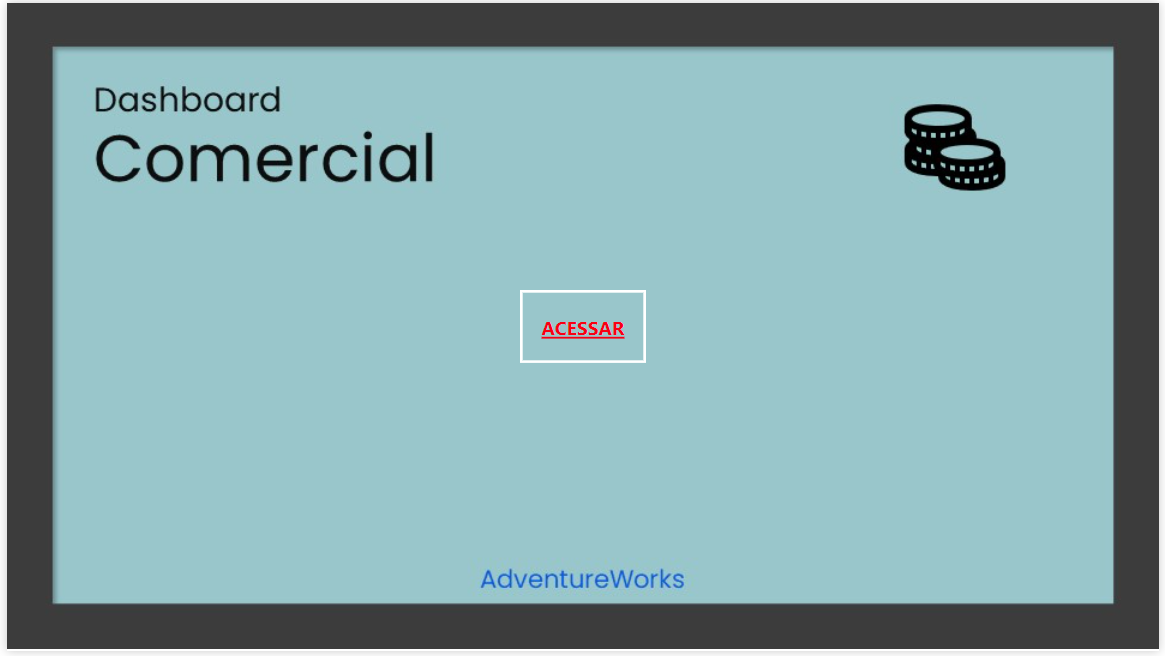

The page's visual inventory and layout, read from the dashboard file:
{"tool":"powerbi","page":{"name":"Home","canvas":[1280,720],"ordinal":0},"visuals":[{"type":"actionButton","box":[570,318.9,140,81.1],"z":0}]}

Visuals, with their boxes in screenshot pixels (x1, y1, x2, y2), scaled from the page's 1280x720 canvas onto the 1165x656 screenshot:
actionButton: rect(519, 291, 646, 364)
